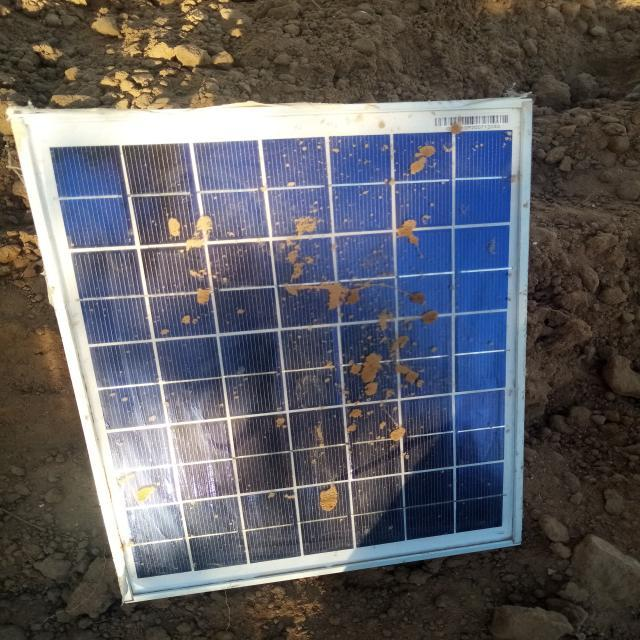faulty: (18, 103, 531, 600)
